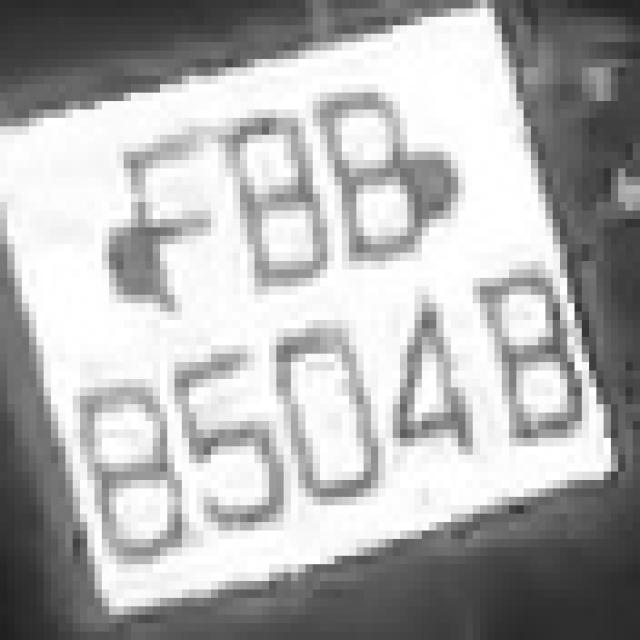0: (262, 312, 400, 530)
4: (349, 286, 480, 514)
5: (167, 346, 284, 548)
8: (58, 362, 196, 581)
B: (451, 236, 582, 472), (211, 84, 334, 312), (313, 67, 436, 295)
F: (94, 76, 226, 320)
